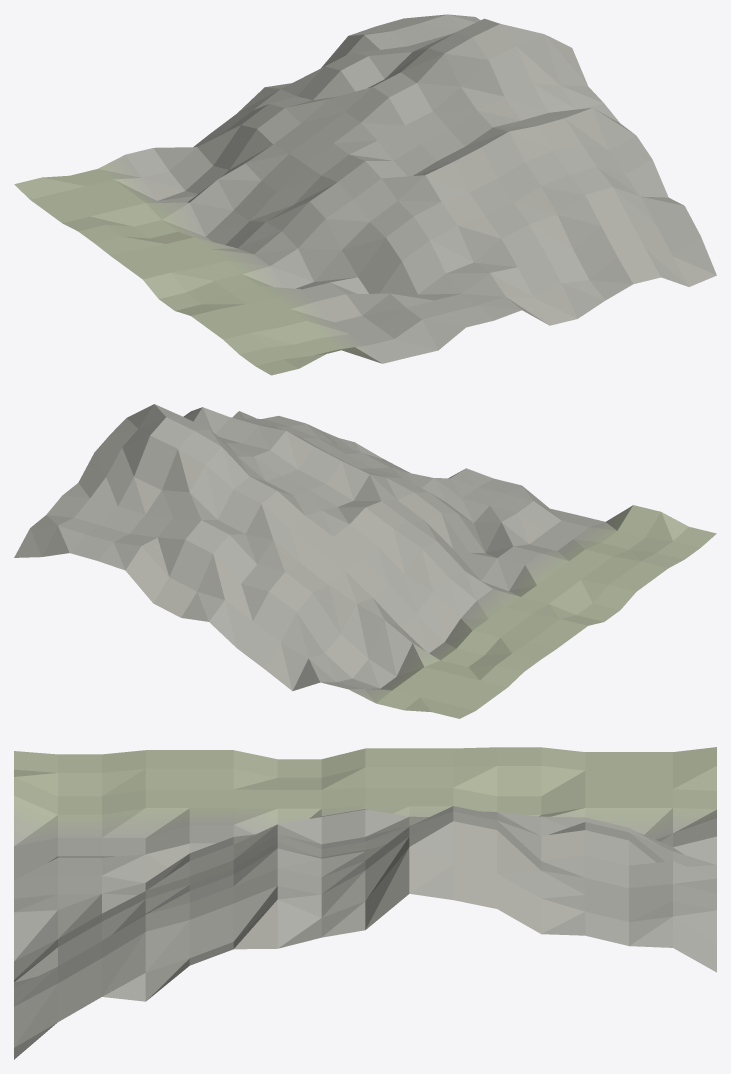
3 views of the same model, one above another, from view 1: azimuth 30°, elevation 25°; view 2: azimuth 150°, elevation 25°; view 3: azimuth 270°, elevation 25° (orthographic). The views are drawn at different scales.
Bounding box in the file's own units: 32 × 10.78 × 32.
